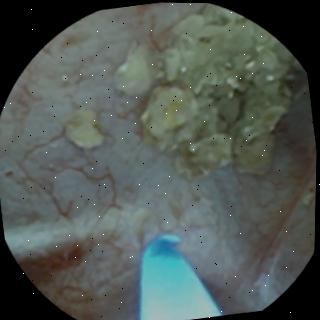fiber: (141, 233, 223, 320)
stone: (142, 5, 293, 173), (114, 42, 153, 94), (65, 106, 104, 147)
tissue: (3, 3, 317, 320)
